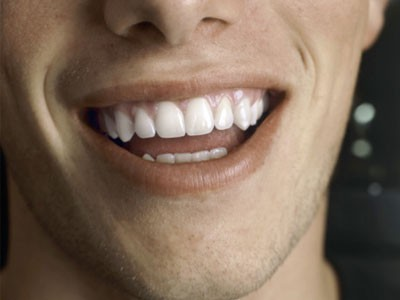shoot: (65, 78, 295, 190)
